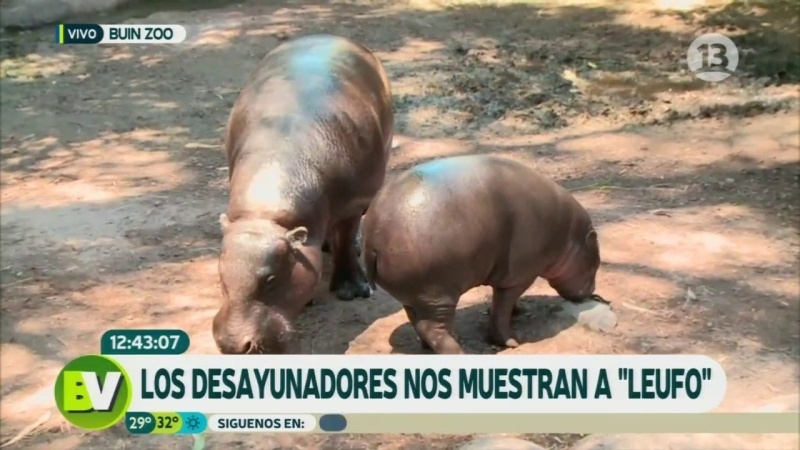hipopotamo: (199, 28, 403, 364), (360, 146, 615, 355)
